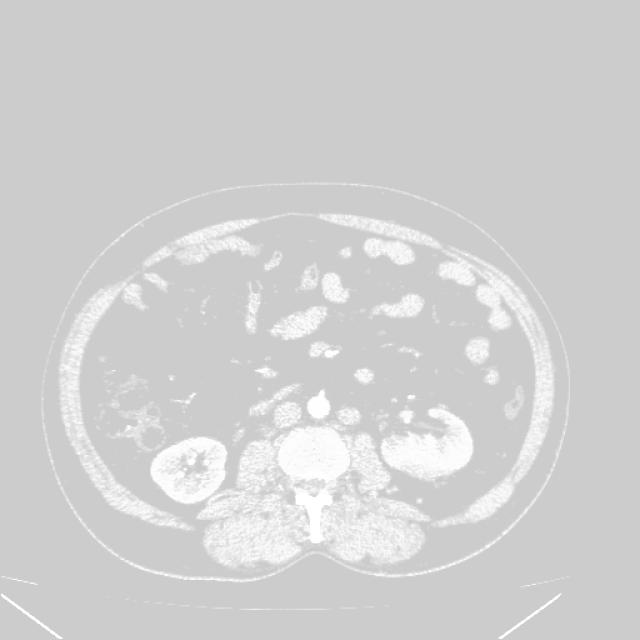TUMOR: (168, 234, 537, 487)
